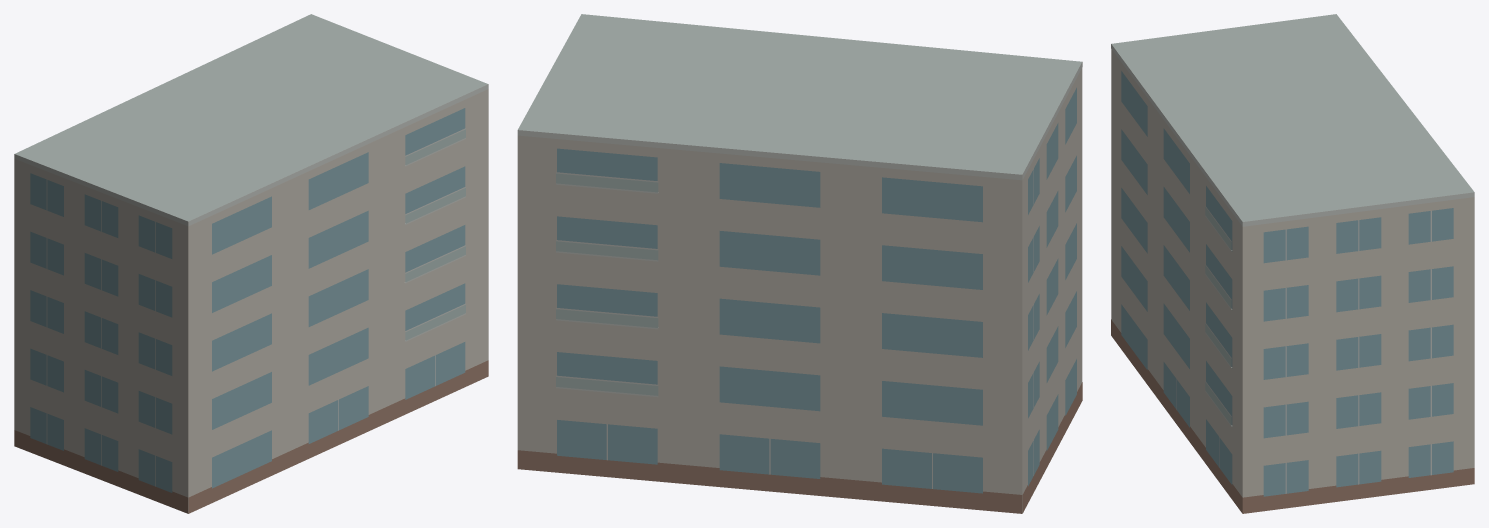
Rendered from survey-upis-32772890.glb.
The picture shows the model from 3 angles, left to right: view 1: azimuth 30°, elevation 25°; view 2: azimuth 150°, elevation 25°; view 3: azimuth 270°, elevation 25°; orthographic projection. The views are drawn at different scales.
Parts seen in each view (by area): view 1: survey-upis-32772890.tmp; view 2: survey-upis-32772890.tmp; view 3: survey-upis-32772890.tmp.
Boxes of the visible parts, x1,y1,x2,y2 form: survey-upis-32772890.tmp: (14, 14, 488, 513); survey-upis-32772890.tmp: (517, 14, 1082, 513); survey-upis-32772890.tmp: (1111, 14, 1474, 513).
Size of the model in its own units: 22.87 by 14.95 by 16.89.
